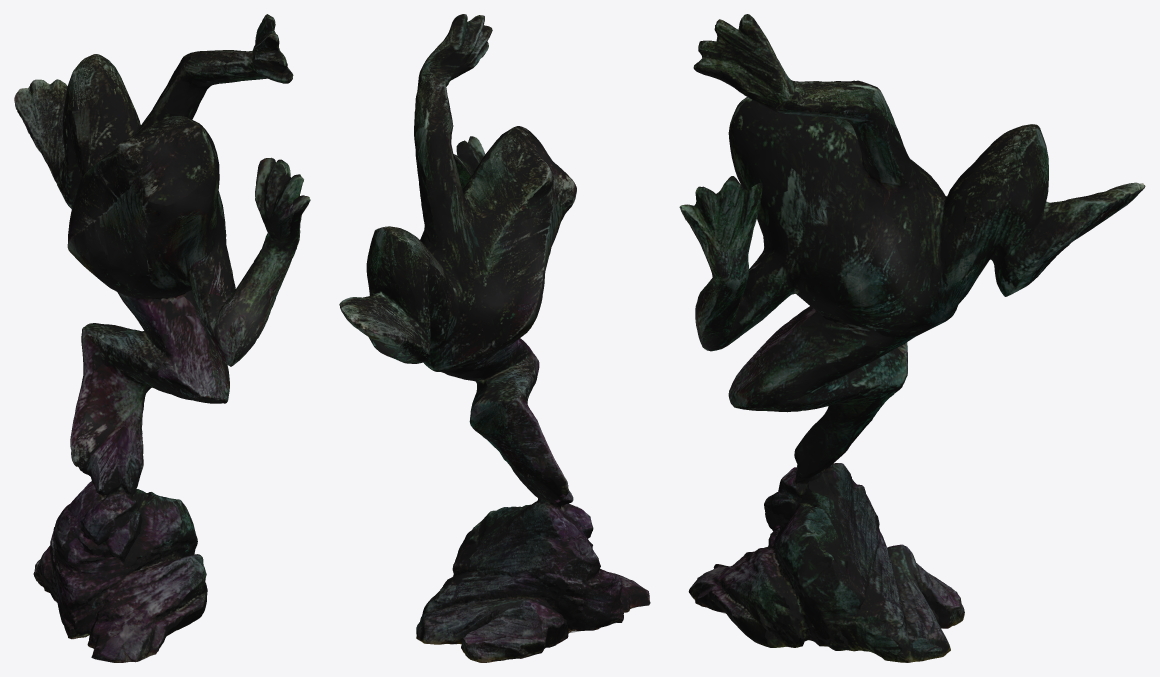
3 renders of one model, left to right at view 1: azimuth 30°, elevation 25°; view 2: azimuth 150°, elevation 25°; view 3: azimuth 270°, elevation 25°, orthographic. The views are drawn at different scales.
Parts seen in each view (by area): view 1: mmGroup0; view 2: mmGroup0; view 3: mmGroup0.
Boxes of the visible parts, left/top/right/bottom form: mmGroup0: left=14, top=14, right=310, bottom=662; mmGroup0: left=339, top=14, right=650, bottom=662; mmGroup0: left=679, top=14, right=1145, bottom=662.
Bounding box in the file's own units: 17.39 × 45.51 × 29.03.
2 materials, 1 textured.
